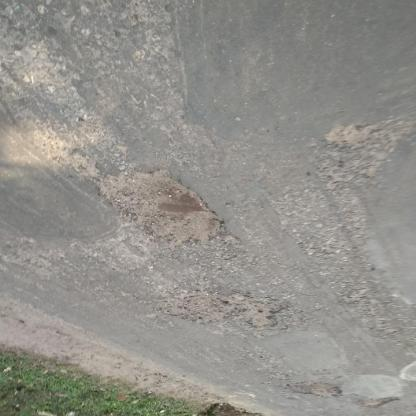pothole: (93, 168, 229, 252), (156, 291, 289, 331), (284, 380, 344, 402), (358, 395, 401, 411)
